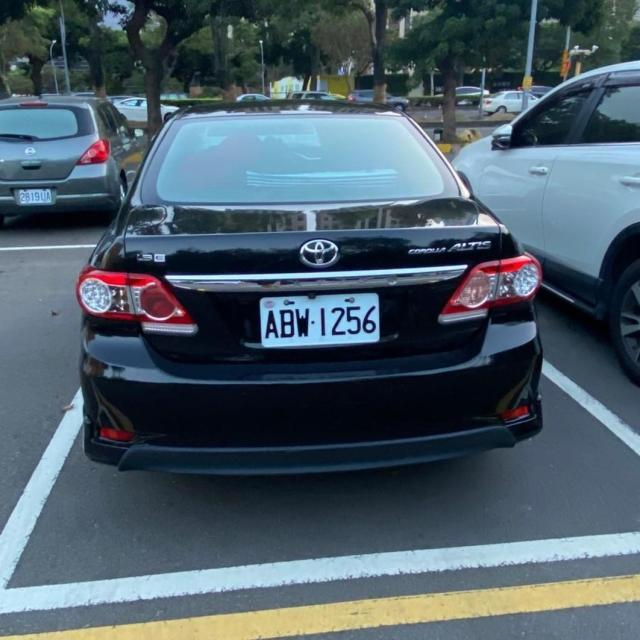W: (255, 291, 381, 351), (18, 187, 53, 205)
